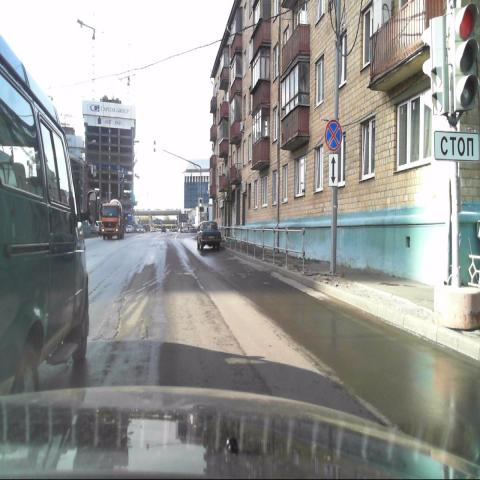6_16: (434, 130, 479, 160)
8_2_4: (329, 153, 339, 187)
